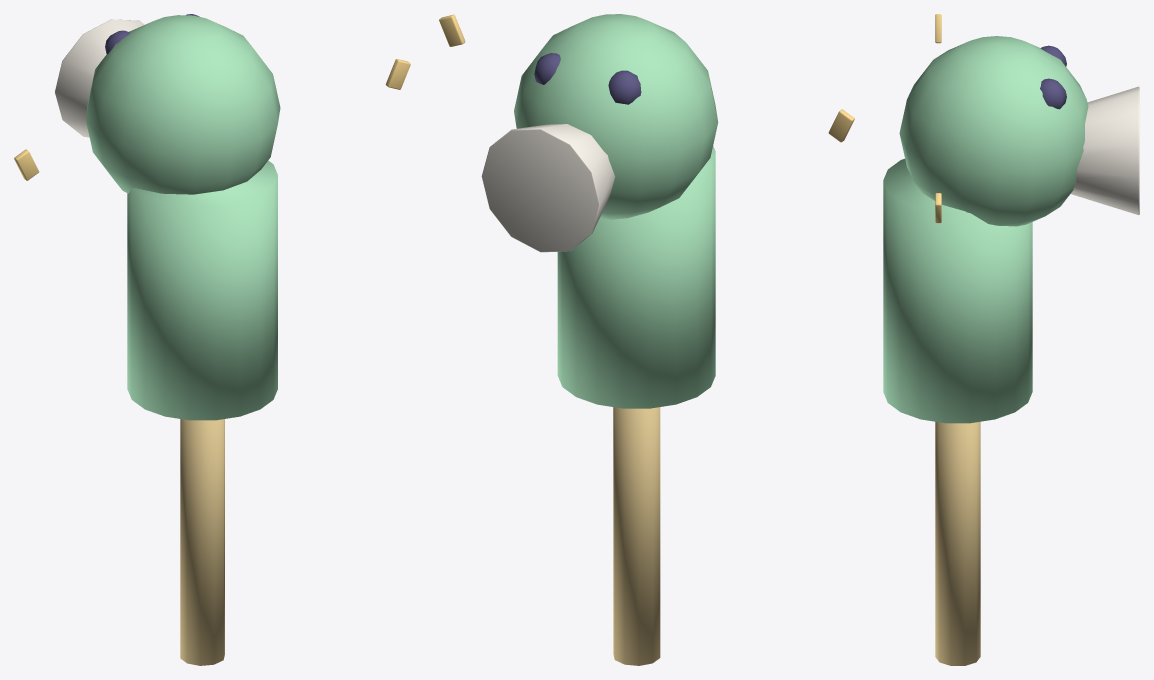
The model's file is opera_dragon.glb.
The picture shows the model from 3 angles, left to right: view 1: azimuth 30°, elevation 25°; view 2: azimuth 150°, elevation 25°; view 3: azimuth 270°, elevation 25°; orthographic projection. The views are drawn at different scales.
Parts seen in each view (by area): view 1: body, head, stick, snout; view 2: body, head, snout, stick, eye; view 3: body, head, stick, snout, eye.001.
Part boxes in pixels (x1,y1,x2,y2): body: (127, 160, 277, 420); head: (85, 15, 280, 194); stick: (180, 419, 224, 665); snout: (55, 19, 144, 137); body: (557, 146, 715, 408); head: (514, 14, 718, 219); snout: (481, 124, 615, 252); stick: (613, 407, 660, 665); eye: (608, 70, 641, 104); body: (883, 158, 1032, 423); head: (899, 36, 1088, 226); stick: (935, 421, 980, 665); snout: (1070, 86, 1139, 214); eye.001: (1040, 78, 1066, 109).
Size of the model in its own units: 6.95 by 10.4 by 3.95.
